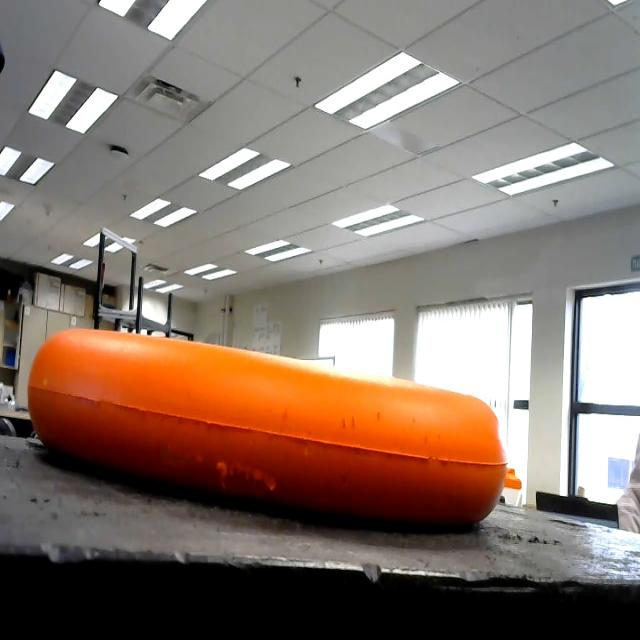note: (15, 306, 519, 544)
